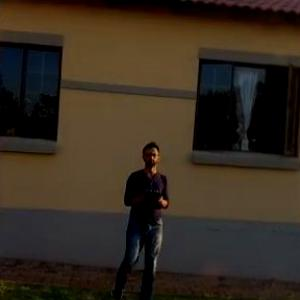follow: (107, 136, 172, 299)
